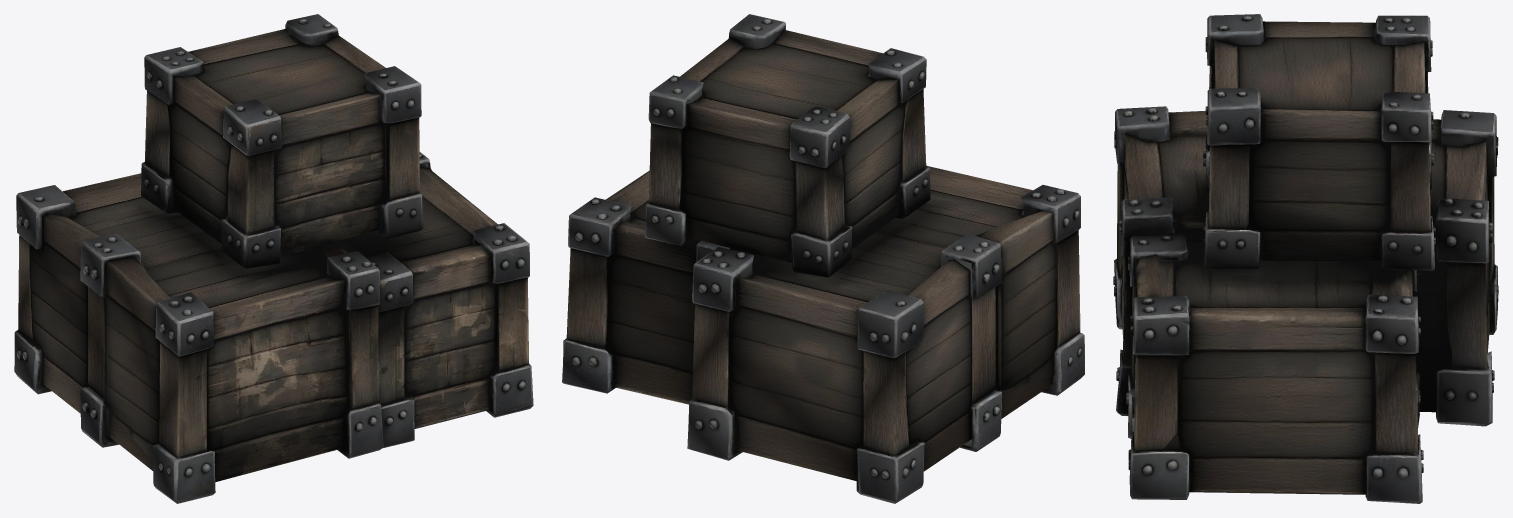
The model's file is selected.fbx.
The picture shows the model from 3 angles, left to right: view 1: azimuth 30°, elevation 25°; view 2: azimuth 150°, elevation 25°; view 3: azimuth 270°, elevation 25°; orthographic projection. The views are drawn at different scales.
Parts seen in each view (by area): view 1: tripo_node_2a623ead-5814-41ec-8aae-f785e0675f01; view 2: tripo_node_2a623ead-5814-41ec-8aae-f785e0675f01; view 3: tripo_node_2a623ead-5814-41ec-8aae-f785e0675f01.
Part boxes in pixels (x1=…): tripo_node_2a623ead-5814-41ec-8aae-f785e0675f01: x1=14, y1=14, x2=533, y2=503; tripo_node_2a623ead-5814-41ec-8aae-f785e0675f01: x1=562, y1=14, x2=1084, y2=503; tripo_node_2a623ead-5814-41ec-8aae-f785e0675f01: x1=1113, y1=14, x2=1498, y2=503.
Bounding box in the file's own units: 0.9995 × 0.813 × 0.7935.
1 material, 1 textured.
